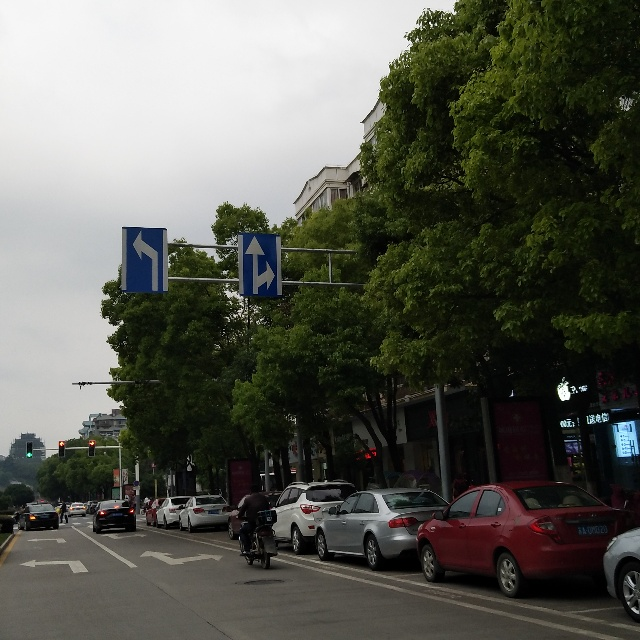left: (123, 225, 165, 292)
